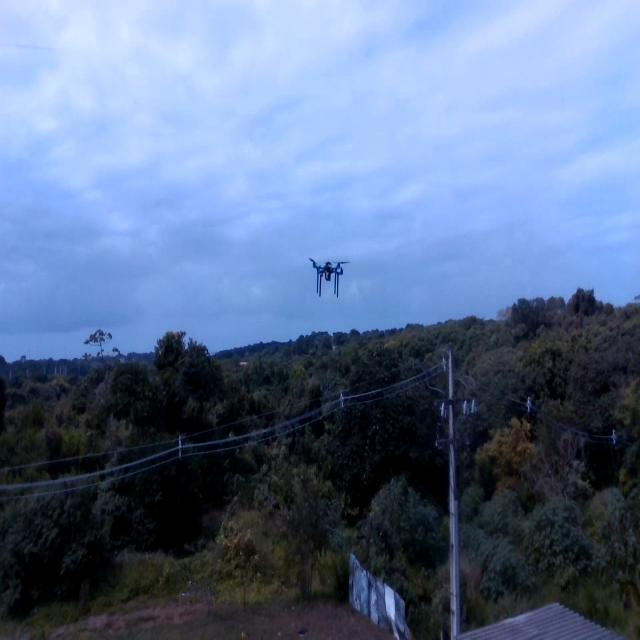-uav-: (290, 224, 363, 322)
